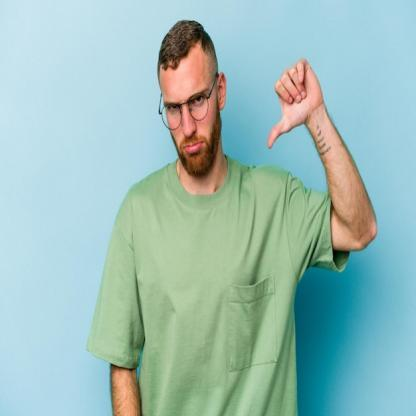thumb_down: (264, 57, 321, 150)
